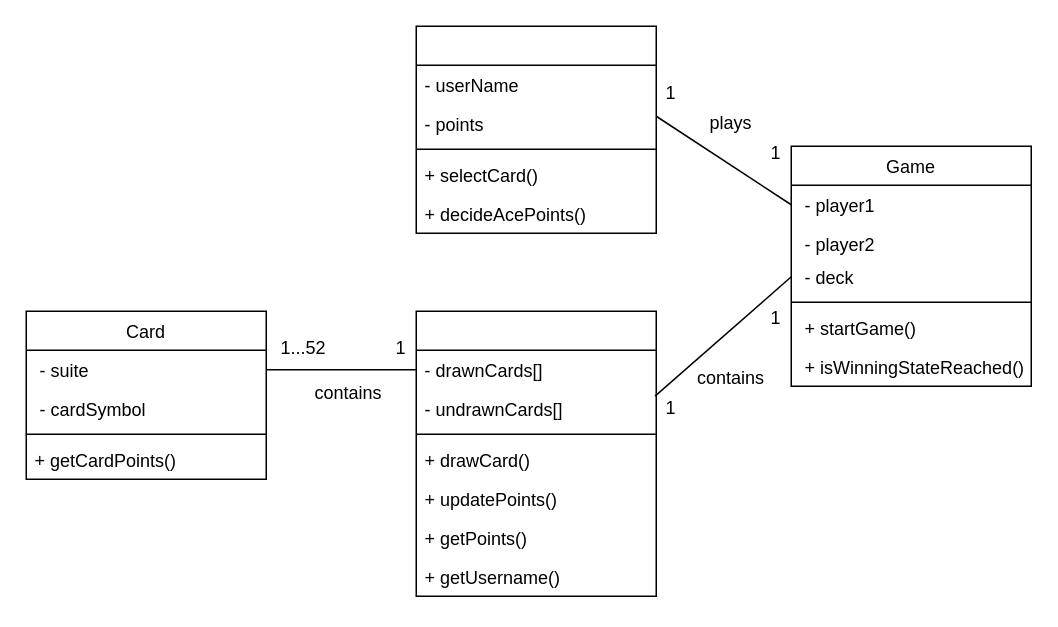
Some shapes in this 1058 by 627 pixel diagram are drawn without their labels. Each missing label, with the box of its shape:
Deck: (415, 310, 656, 596)
Player: (415, 25, 656, 233)
